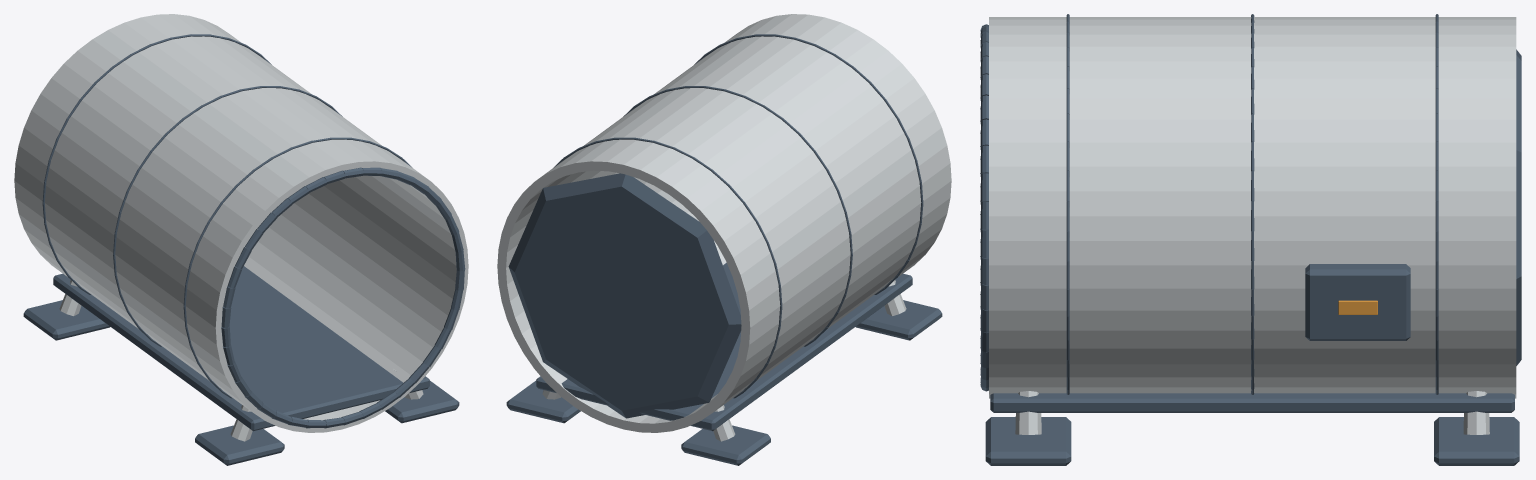
3 views of the same model, side by side, from view 1: azimuth 30°, elevation 25°; view 2: azimuth 150°, elevation 25°; view 3: azimuth 270°, elevation 25° (orthographic). The views are drawn at different scales.
Parts seen in each view (by area): view 1: ME-001 Open-ended lunar habitat shell batched; view 2: ME-001 Open-ended lunar habitat shell batched; view 3: ME-001 Open-ended lunar habitat shell batched.
Part boxes in pixels (x1,y1,x2,y2): ME-001 Open-ended lunar habitat shell batched: (14,14,468,465); ME-001 Open-ended lunar habitat shell batched: (497,14,951,465); ME-001 Open-ended lunar habitat shell batched: (980,14,1521,465).
Bounding box in the file's own units: 3.06 × 3.02 × 4.11.
